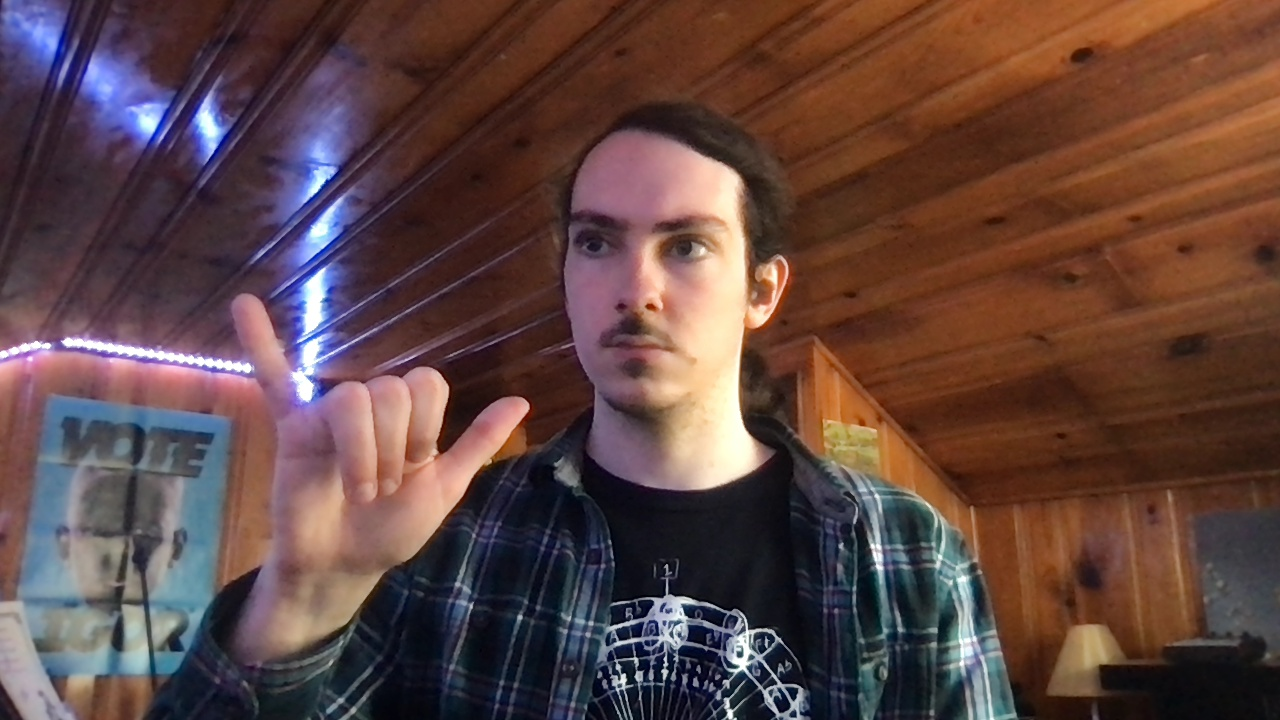y: (226, 291, 531, 584)
